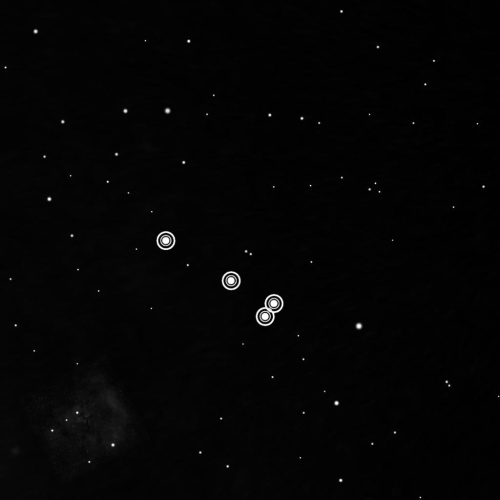sagitta: (151, 227, 291, 332)
